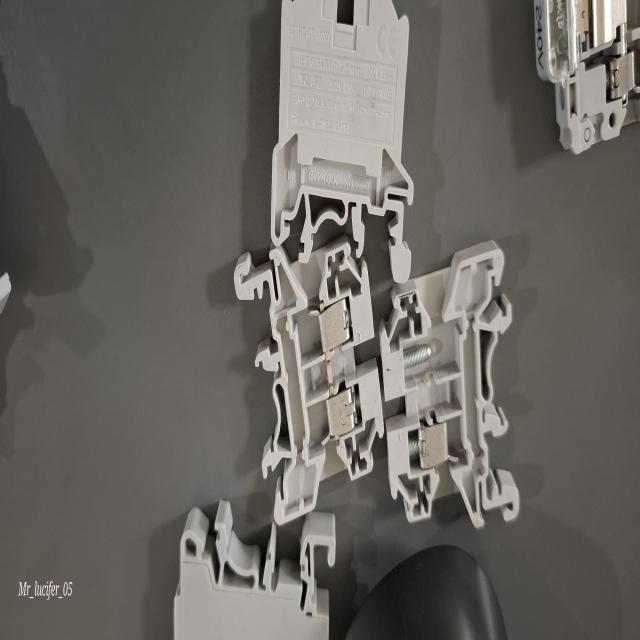Pass: (216, 175, 394, 534)
Reject: (374, 214, 533, 562)
